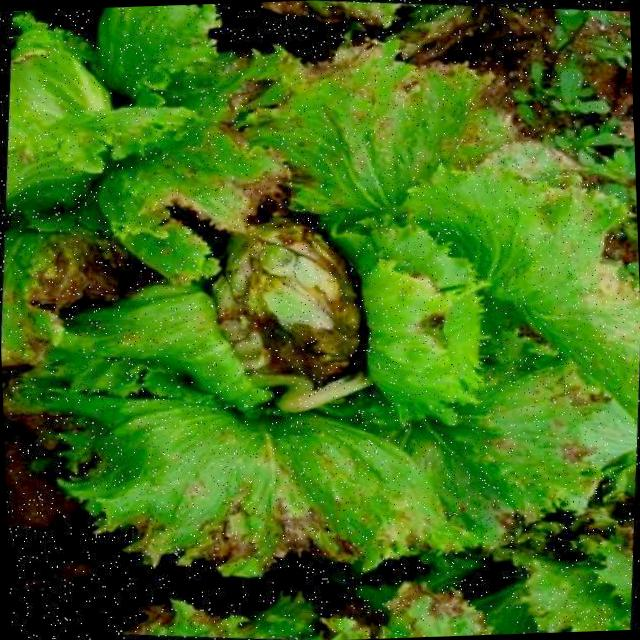Bacterial: (16, 120, 616, 516)
